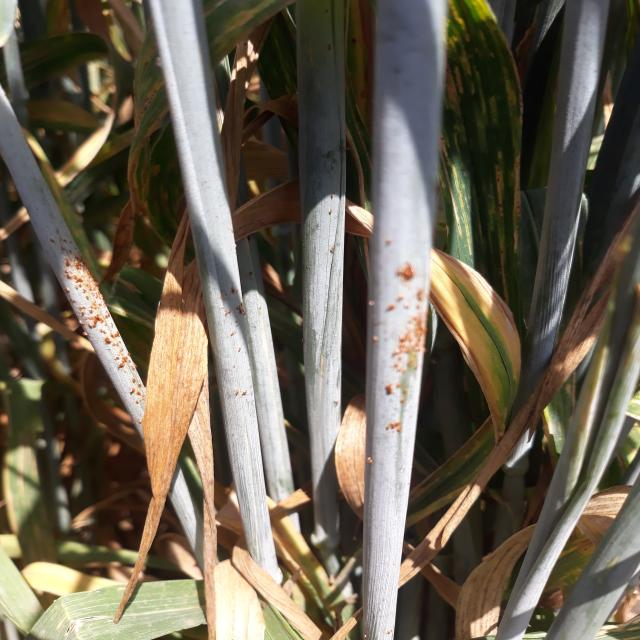black_stem_rust: (276, 1, 464, 622), (0, 66, 194, 469), (161, 0, 277, 541)
